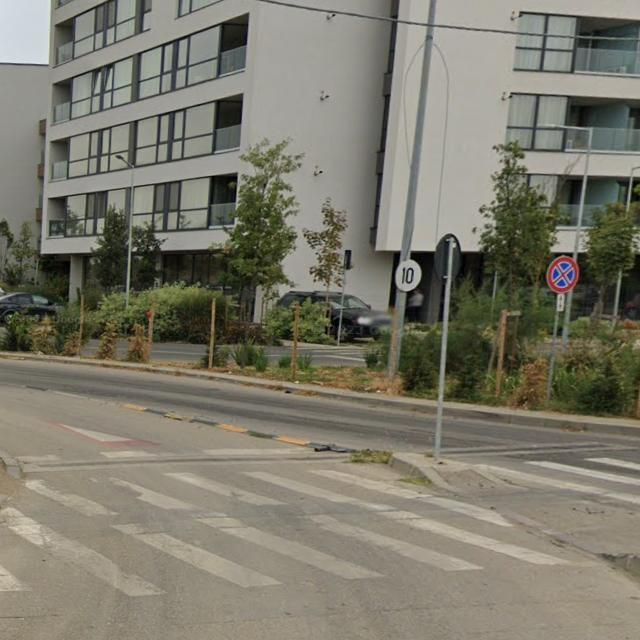forb_speed_over_10: (394, 259, 422, 292)
forb_waiting: (546, 255, 580, 293)
